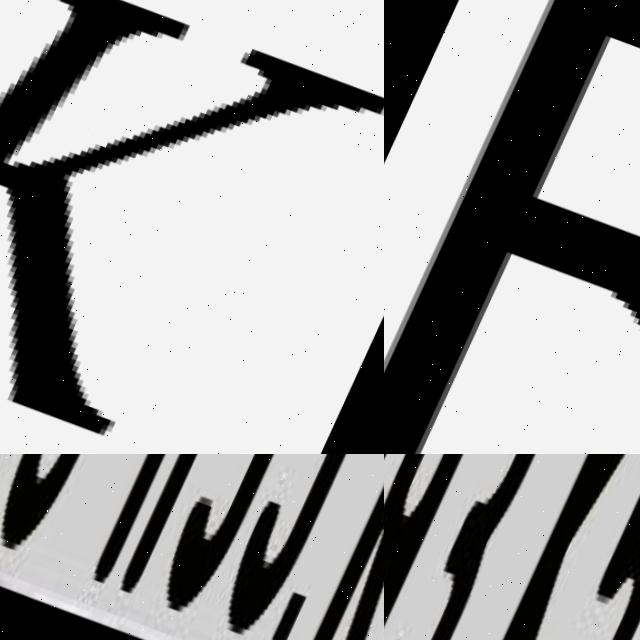3: (384, 454, 615, 640), (215, 454, 384, 640)
5: (492, 454, 640, 640)
8: (0, 454, 273, 573)
9: (152, 454, 384, 627), (384, 454, 562, 640)
H: (80, 454, 370, 623), (384, 454, 487, 640)
K: (0, 0, 384, 454), (417, 454, 640, 640), (300, 454, 384, 640)
L: (0, 454, 198, 532)
R: (384, 0, 640, 454)
